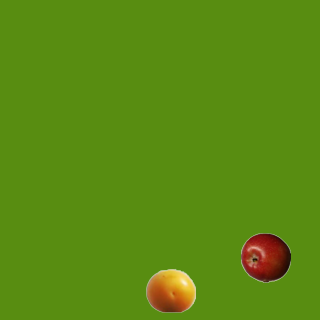Apple Braeburn: (240, 232, 290, 282)
Cherry Wax Yellow: (145, 265, 195, 315)
